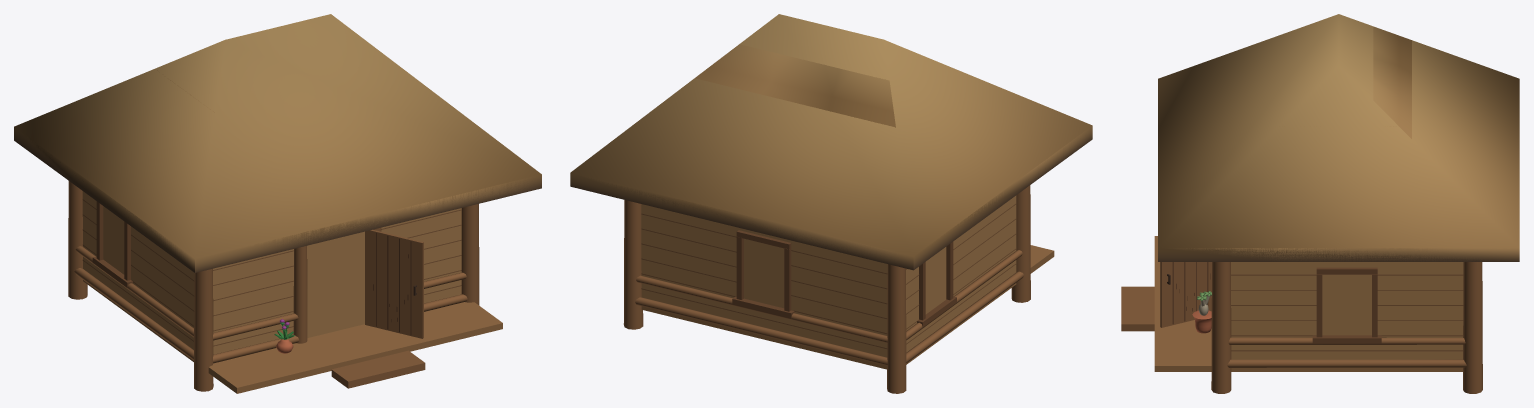
Rendered from hut_plank.glb.
The picture shows the model from 3 angles, left to right: view 1: azimuth 30°, elevation 25°; view 2: azimuth 150°, elevation 25°; view 3: azimuth 270°, elevation 25°; orthographic projection.
Parts seen in each view (by area): view 1: hut_plank_far, hut_plank; view 2: hut_plank_far, hut_plank; view 3: hut_plank_far, hut_plank.
Boxes of the visible parts, bbox=[...] form: hut_plank_far: bbox=[14, 14, 541, 354]; hut_plank: bbox=[14, 70, 541, 393]; hut_plank_far: bbox=[570, 14, 1092, 334]; hut_plank: bbox=[570, 44, 1092, 393]; hut_plank_far: bbox=[1158, 14, 1519, 359]; hut_plank: bbox=[1121, 26, 1519, 393].
Bounding box in the file's own units: 7.2 × 5.66 × 7.16.
